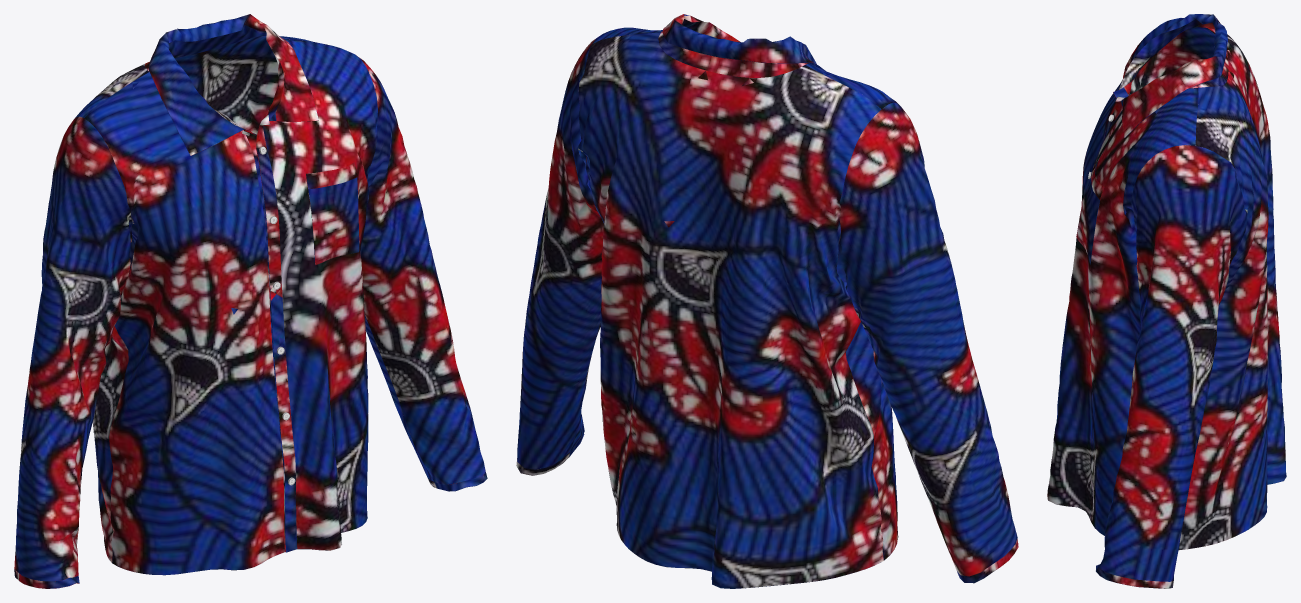
Rendered from long_sleeves_main_two.glb.
The picture shows the model from 3 angles, left to right: view 1: azimuth 30°, elevation 25°; view 2: azimuth 150°, elevation 25°; view 3: azimuth 270°, elevation 25°; orthographic projection. The views are drawn at different scales.
Visible parts, largest first — view 1: all; view 2: all; view 3: all.
Part boxes in pixels (x1,y1,x2,y2): all: [14, 14, 487, 588]; all: [516, 14, 1018, 588]; all: [1047, 14, 1286, 588].
Size of the model in its own units: 0.658 by 0.6817 by 0.3175.
1 material, 1 textured.
